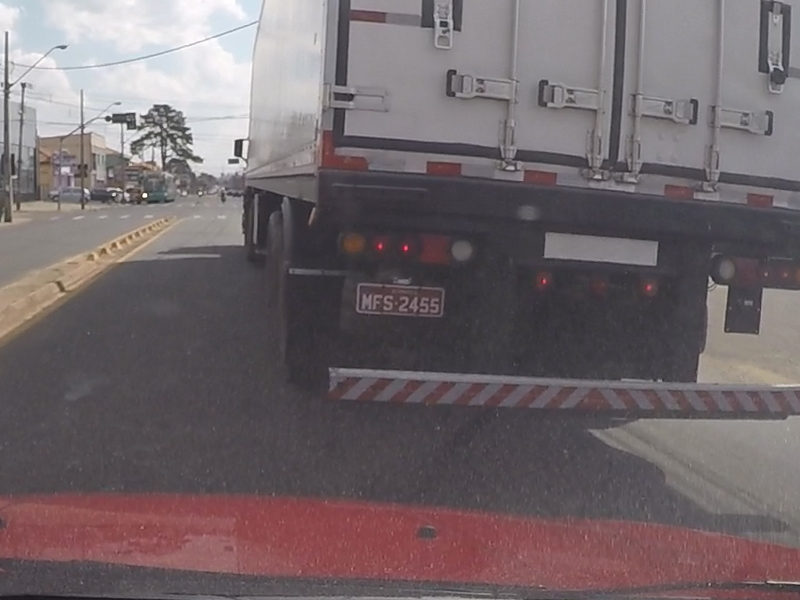placa: (356, 283, 445, 317)
